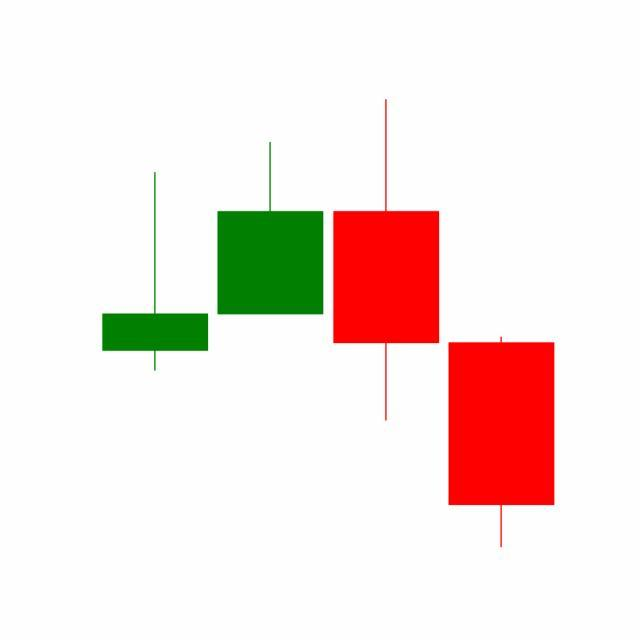Marubozu: (444, 335, 560, 550)
